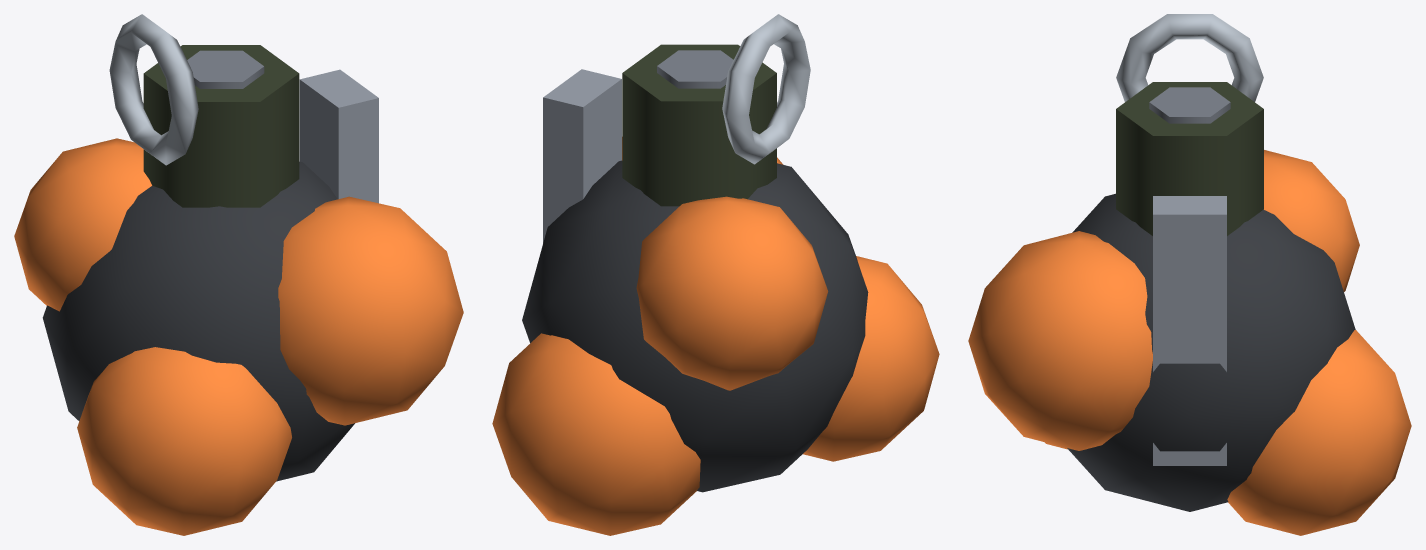
File: sticky.glb
3 renders of one model, left to right at view 1: azimuth 30°, elevation 25°; view 2: azimuth 150°, elevation 25°; view 3: azimuth 270°, elevation 25°, orthographic. The views are drawn at different scales.
Parts seen in each view (by area): view 1: Sticky; view 2: Sticky; view 3: Sticky.
Part boxes in pixels (<box>): Sticky: <box>14,14,463,535</box>; Sticky: <box>492,14,939,535</box>; Sticky: <box>968,14,1411,535</box>.
Size of the model in its own units: 0.103 by 0.139 by 0.12.
